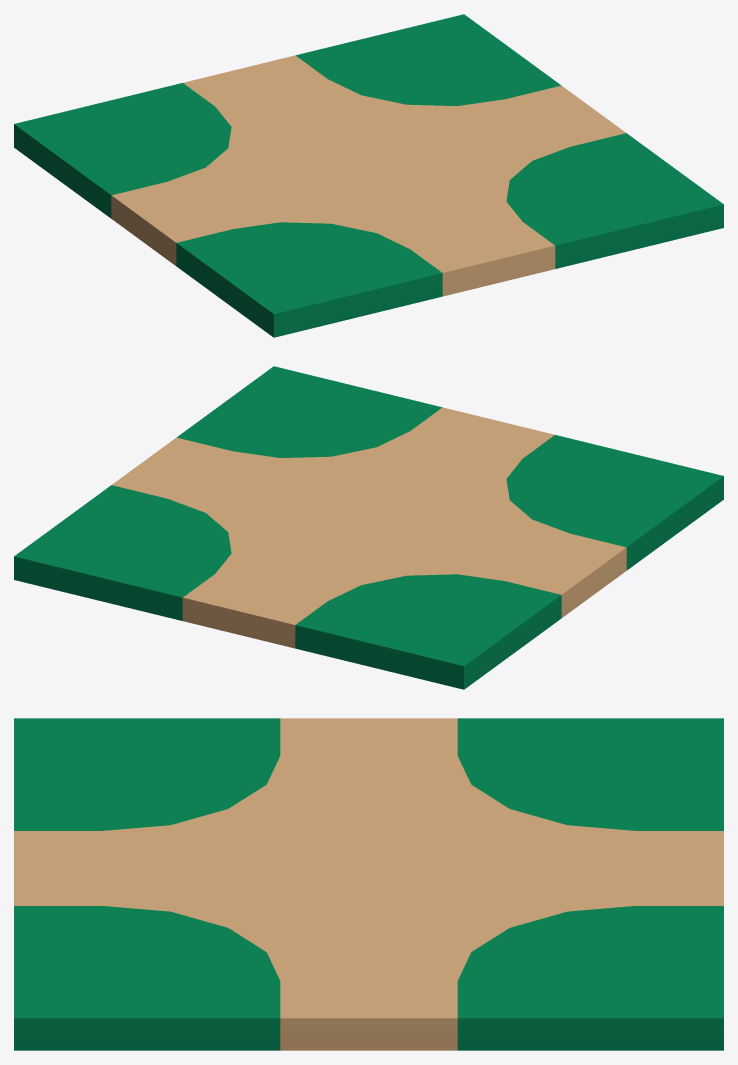
The model's file is park_road_junction.glb.
The picture shows the model from 3 angles, top to bottom: view 1: azimuth 30°, elevation 25°; view 2: azimuth 150°, elevation 25°; view 3: azimuth 270°, elevation 25°; orthographic projection. The views are drawn at different scales.
Parts seen in each view (by area): view 1: park_road_junction; view 2: park_road_junction; view 3: park_road_junction.
Boxes of the visible parts, x1,y1,x2,y2 form: park_road_junction: (14, 14, 723, 337); park_road_junction: (14, 366, 723, 689); park_road_junction: (14, 718, 723, 1050).
Size of the model in its own units: 2 by 0.1 by 2.
Materials: 1 (1 with a texture image).
